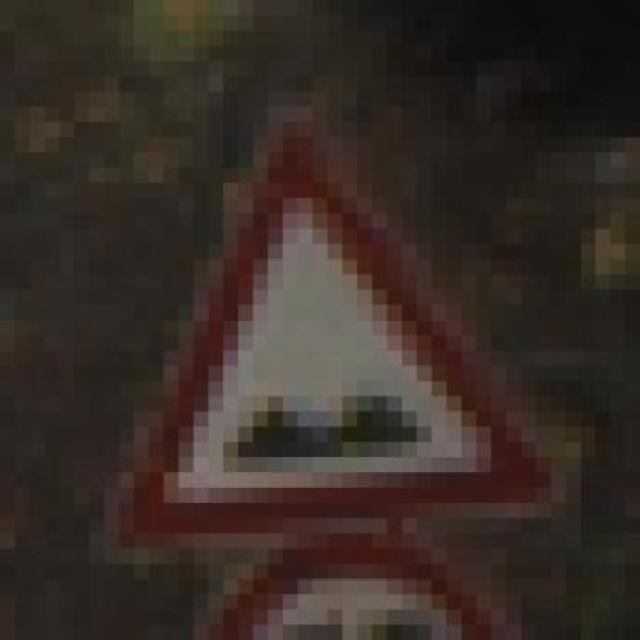Uneven Road: (80, 115, 558, 543)
